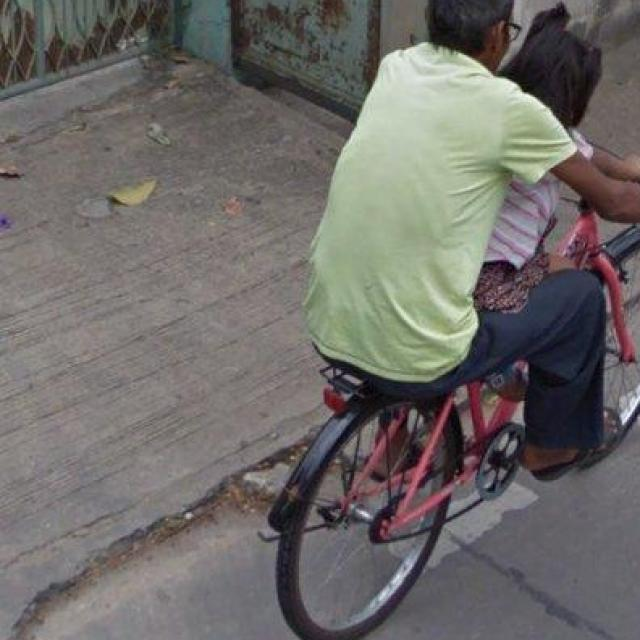bicycle: (212, 90, 640, 638)
